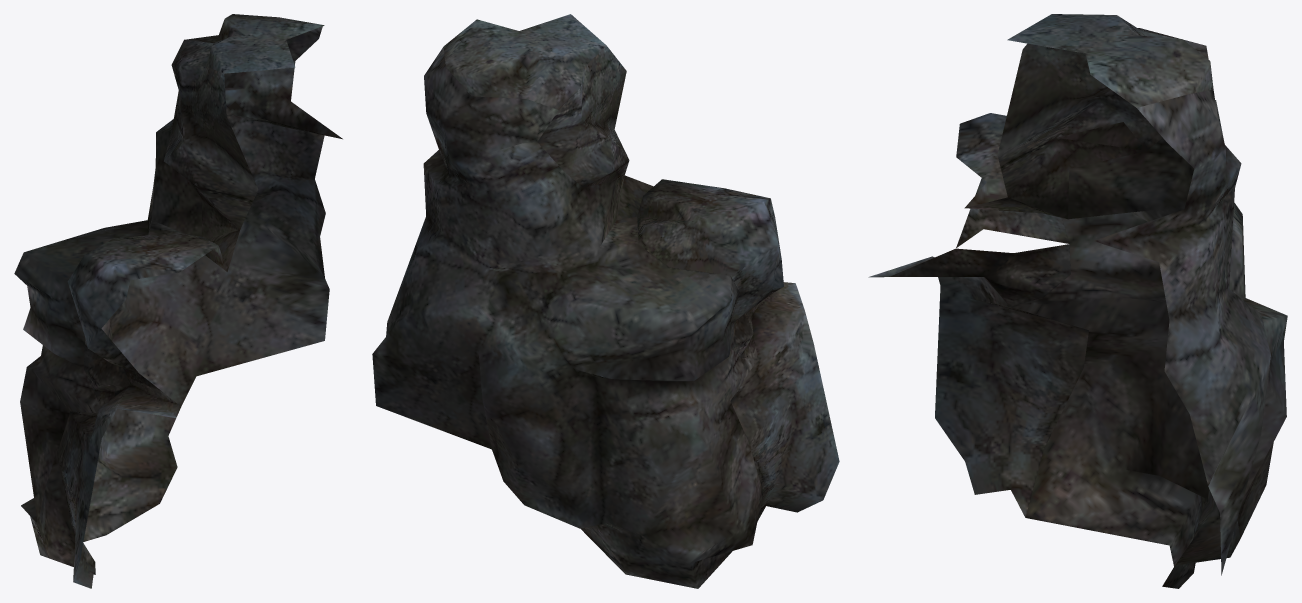
File: S_Rock_Yellow034_H09.FBX
The picture shows the model from 3 angles, left to right: view 1: azimuth 30°, elevation 25°; view 2: azimuth 150°, elevation 25°; view 3: azimuth 270°, elevation 25°; orthographic projection. The views are drawn at different scales.
Visible parts, largest first — view 1: S_Rock_Yellow034_H09; view 2: S_Rock_Yellow034_H09; view 3: S_Rock_Yellow034_H09.
Boxes of the visible parts, x1,y1,x2,y2 form: S_Rock_Yellow034_H09: [14, 14, 342, 588]; S_Rock_Yellow034_H09: [372, 14, 839, 588]; S_Rock_Yellow034_H09: [868, 14, 1287, 588].
Size of the model in its own units: 1398 by 1097 by 1818.
1 material, 1 textured.
